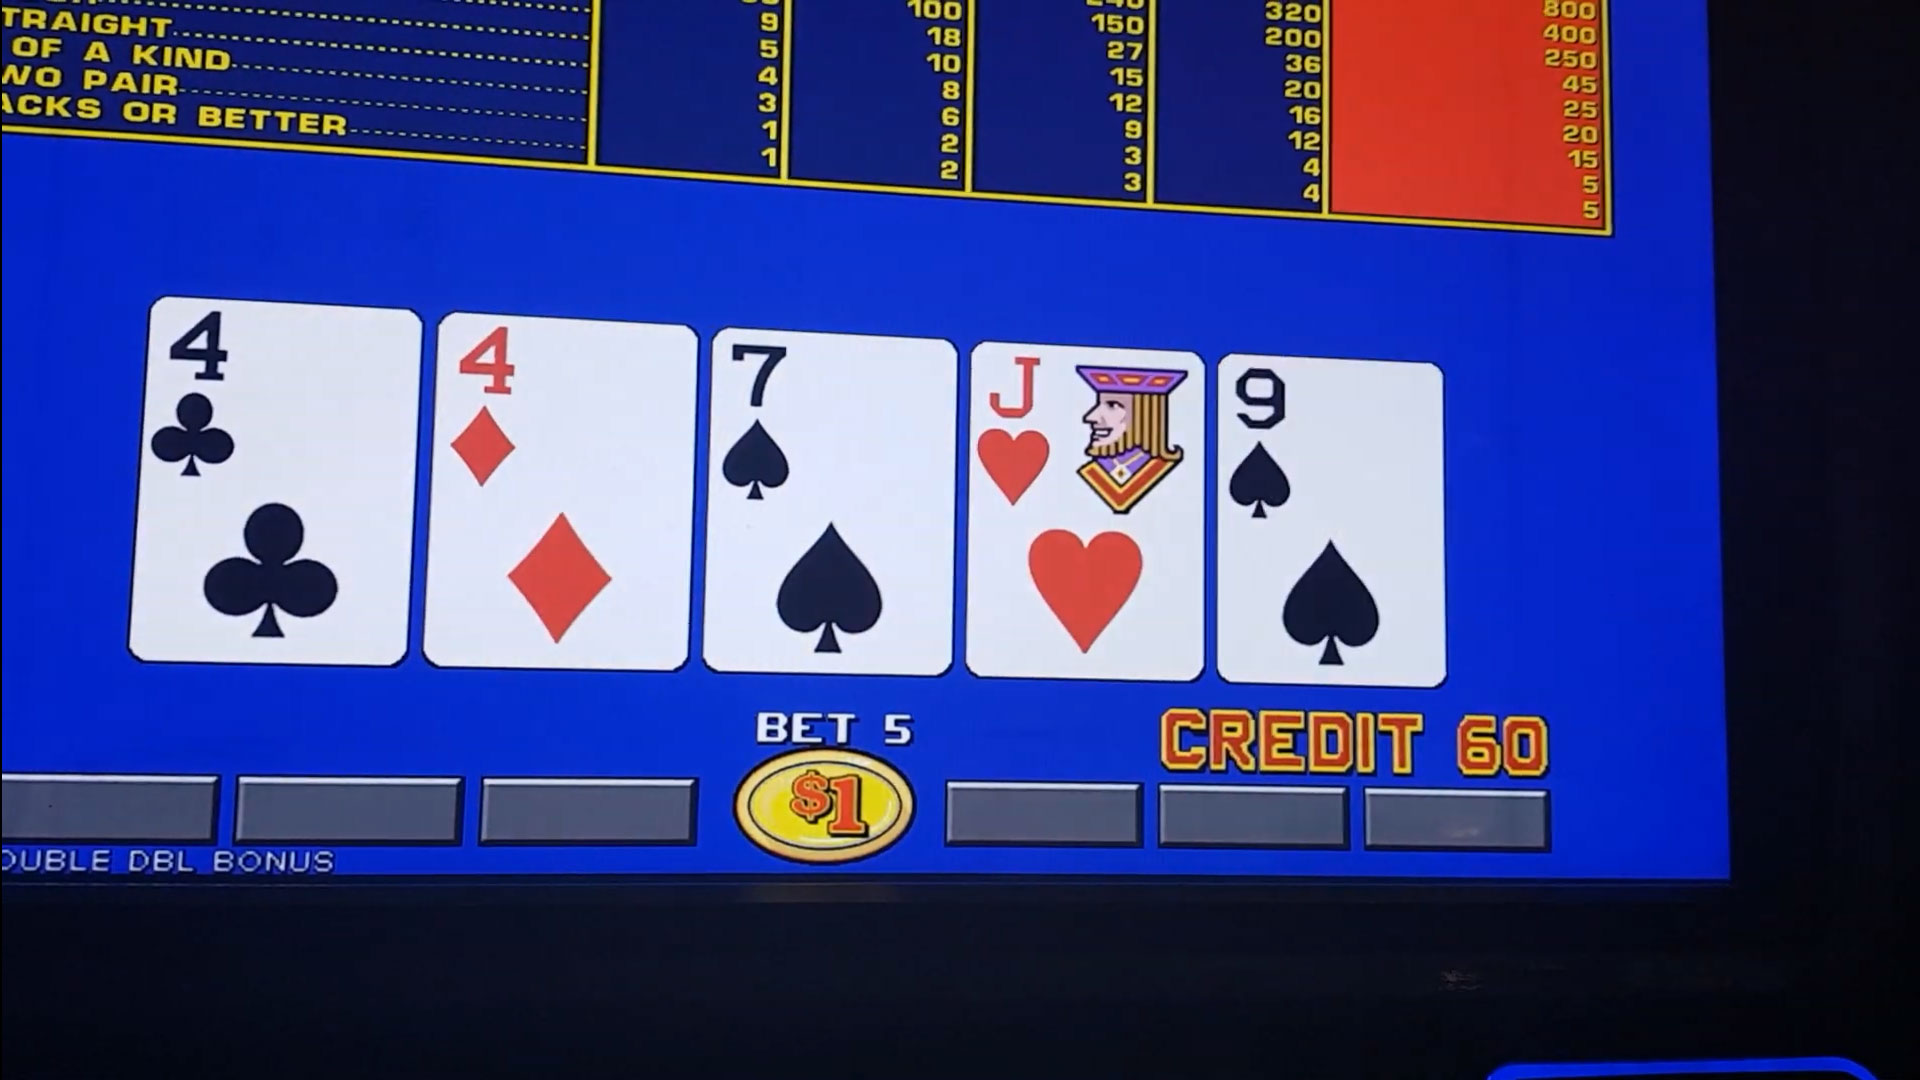C4: (157, 314, 414, 498)
D4: (442, 328, 687, 504)
HJ: (975, 353, 1200, 527)
S7: (721, 345, 947, 514)
S9: (1226, 368, 1437, 521)
